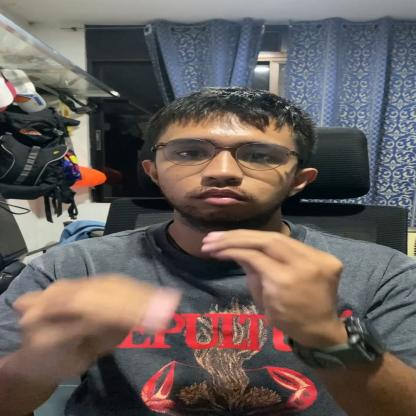Fix: (1, 219, 366, 387)
